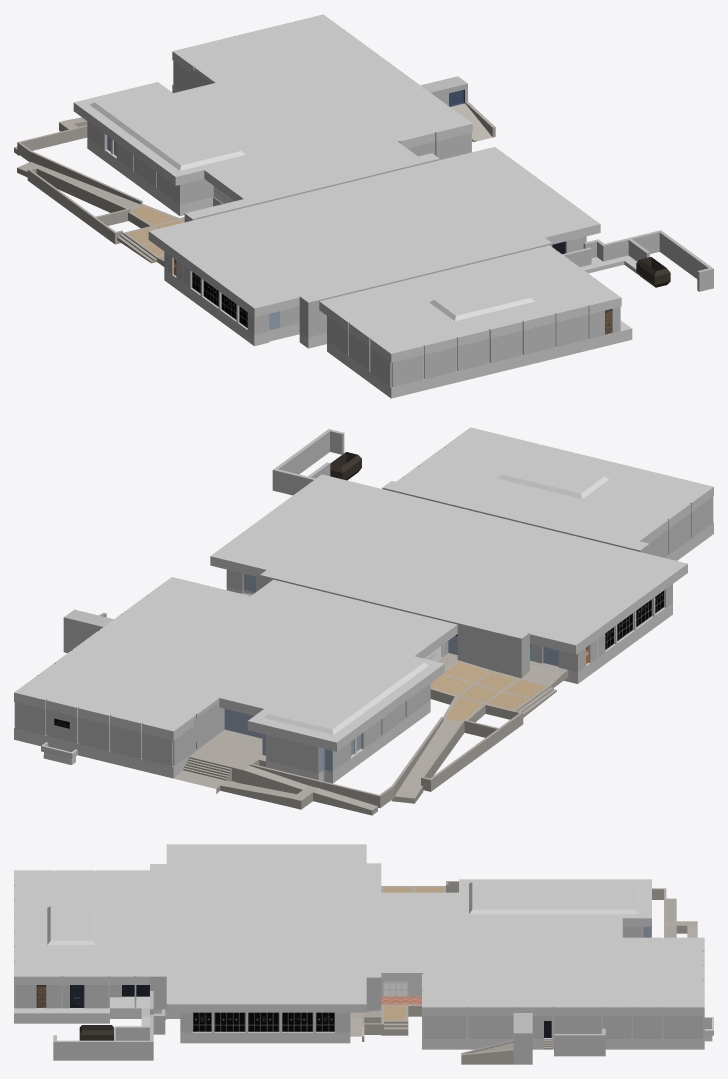
Rendered from Campus Center.fbx.
3 views of the same model, one above another, from view 1: azimuth 30°, elevation 25°; view 2: azimuth 150°, elevation 25°; view 3: azimuth 270°, elevation 25° (orthographic). The views are drawn at different scales.
Parts seen in each view (by area): view 1: Plane.005, Plane.014, Plane.003, Plane.012, Plane.000, Plane.015, Cube; view 2: Plane.005, Plane.012, Plane.014, Plane.003, Plane.000, Plane.015, Plane.008, Cube; view 3: Plane.005, Plane.003, Plane.015, Plane.000, Plane.010, Plane.006, Plane.012, Plane.018, Cube, Plane.014, Plane.019.
Boxes of the visible parts, <box> form: Plane.005: <box>73,14,632,398</box>; Plane.014: <box>17,125,142,244</box>; Plane.003: <box>562,230,713,291</box>; Plane.012: <box>14,117,184,266</box>; Plane.000: <box>421,76,495,142</box>; Plane.015: <box>174,186,247,327</box>; Cube: <box>636,257,670,287</box>; Plane.005: <box>14,427,713,783</box>; Plane.012: <box>174,653,568,815</box>; Plane.014: <box>249,710,523,808</box>; Plane.003: <box>272,429,344,495</box>; Plane.000: <box>63,609,113,652</box>; Plane.015: <box>424,591,663,664</box>; Plane.008: <box>472,631,514,665</box>; Cube: <box>330,452,361,480</box>; Plane.005: <box>14,844,704,1049</box>; Plane.003: <box>53,991,165,1060</box>; Plane.015: <box>192,981,408,1031</box>; Plane.000: <box>461,1013,532,1064</box>; Plane.010: <box>350,996,421,1036</box>; Plane.006: <box>554,1028,605,1056</box>; Plane.012: <box>381,886,697,937</box>; Plane.018: <box>36,985,84,1007</box>; Cube: <box>79,1025,114,1040</box>; Plane.014: <box>446,881,666,937</box>; Plane.019: <box>362,1016,383,1041</box>.
Bounding box in the file's own units: 45.7 × 5.99 × 73.27.
